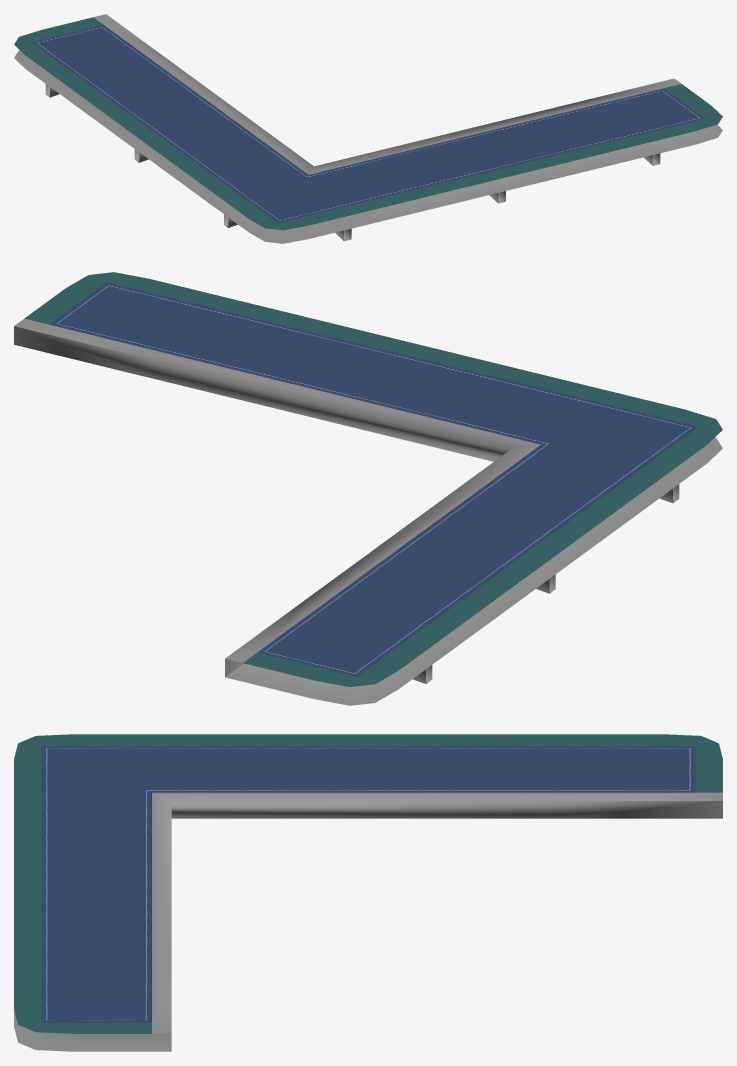
File: IceMaze_Ledge02.FBX
The picture shows the model from 3 angles, top to bottom: view 1: azimuth 30°, elevation 25°; view 2: azimuth 150°, elevation 25°; view 3: azimuth 270°, elevation 25°; orthographic projection. The views are drawn at different scales.
Visible parts, largest first — view 1: IceMaze_Ledge02_Floor, IceMaze_Ledge02; view 2: IceMaze_Ledge02_Floor, IceMaze_Ledge02; view 3: IceMaze_Ledge02_Floor, IceMaze_Ledge02.
Boxes of the visible parts, bbox=[...] form: IceMaze_Ledge02_Floor: bbox=[14, 17, 722, 230]; IceMaze_Ledge02: bbox=[14, 14, 722, 243]; IceMaze_Ledge02_Floor: bbox=[24, 272, 722, 686]; IceMaze_Ledge02: bbox=[14, 318, 722, 705]; IceMaze_Ledge02_Floor: bbox=[14, 734, 722, 1033]; IceMaze_Ledge02: bbox=[14, 792, 722, 1051].
Bounding box in the file's own units: 18 × 0.9 × 18.
